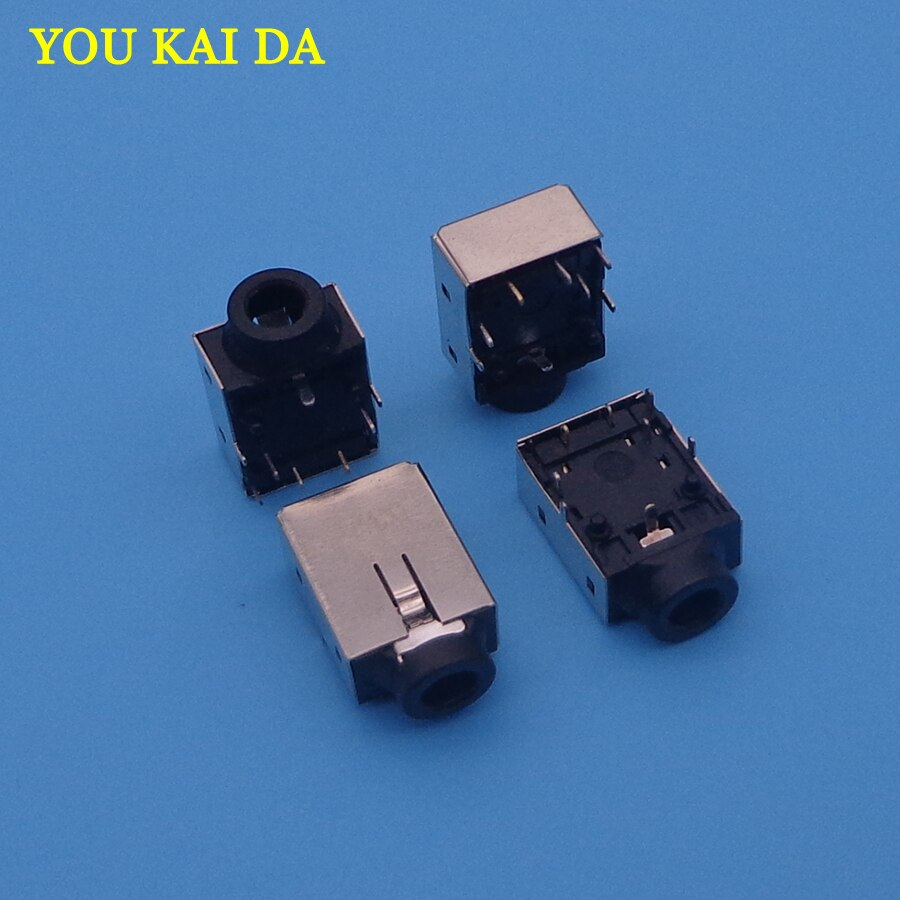aud: (515, 404, 760, 645), (278, 474, 506, 726), (186, 259, 387, 481)
